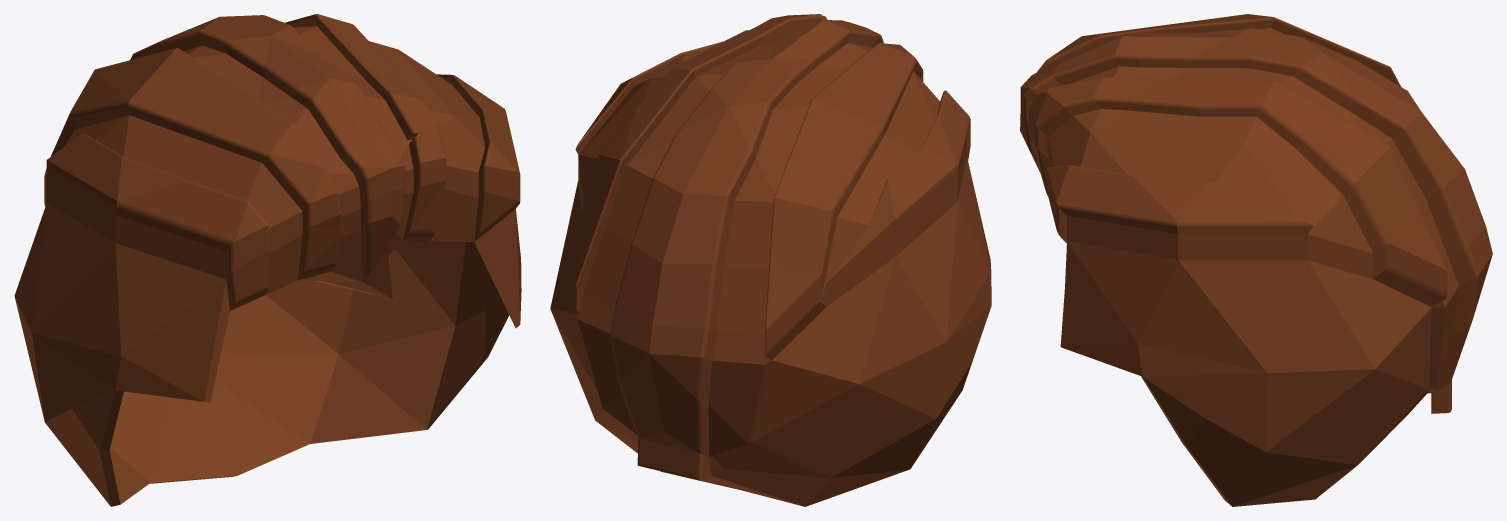
File: HairCut5.fbx
3 views of the same model, side by side, from view 1: azimuth 30°, elevation 25°; view 2: azimuth 150°, elevation 25°; view 3: azimuth 270°, elevation 25° (orthographic). The views are drawn at different scales.
Parts seen in each view (by area): view 1: characterBase.001; view 2: characterBase.001; view 3: characterBase.001.
Part boxes in pixels (x1,y1,x2,y2): characterBase.001: [14, 14, 521, 506]; characterBase.001: [550, 14, 991, 506]; characterBase.001: [1020, 14, 1492, 506].
Size of the model in its own units: 61.5 by 63 by 62.49.
